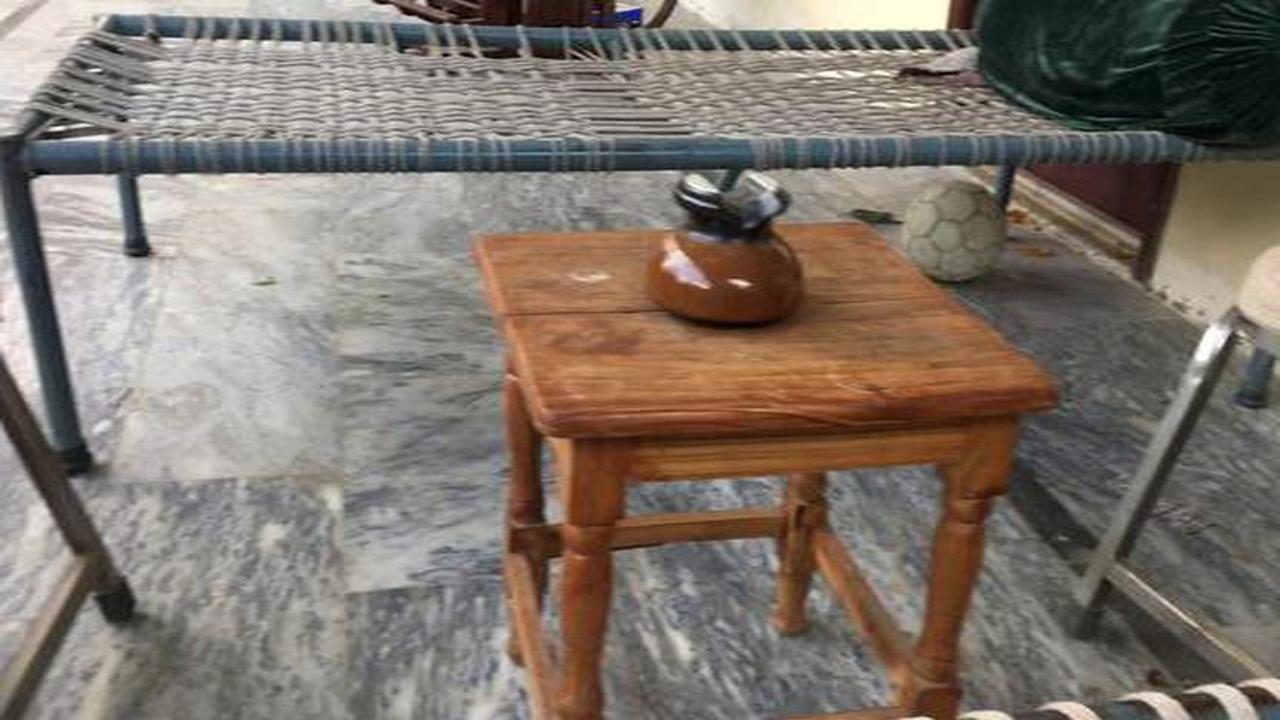insulator_pin: (622, 149, 828, 340)
